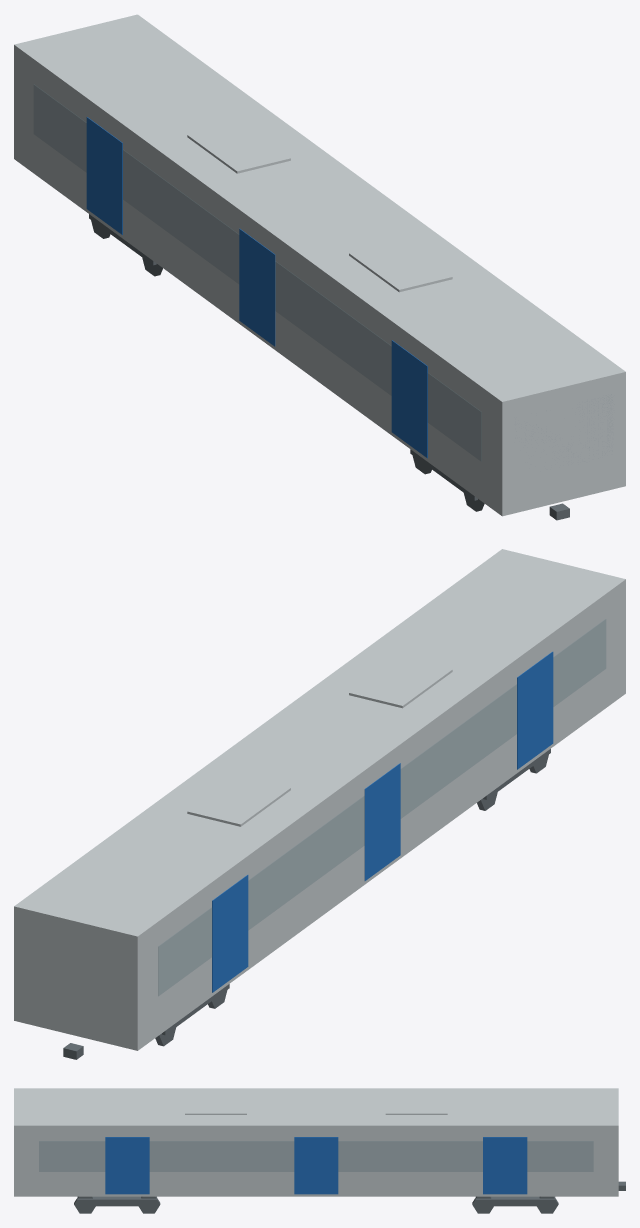
Rendered from canada-line-endcar-exterior.lod2.glb.
The picture shows the model from 3 angles, top to bottom: view 1: azimuth 30°, elevation 25°; view 2: azimuth 150°, elevation 25°; view 3: azimuth 270°, elevation 25°; orthographic projection. The views are drawn at different scales.
Parts seen in each view (by area): view 1: body-shell, glass, blue-fascia; view 2: body-shell, glass, blue-fascia; view 3: body-shell, glass, blue-fascia, bogie-rear-frame, bogie-front-frame, wheel-rear-front-left, wheel-front-front-left, wheel-front-rear-left, wheel-rear-rear-left.
Boxes of the visible parts, x1,y1,x2,y2 form: body-shell: (14, 14, 625, 516); glass: (34, 84, 481, 461); blue-fascia: (86, 117, 427, 458); body-shell: (14, 549, 625, 1050); glass: (158, 619, 605, 995); blue-fascia: (212, 651, 553, 992); body-shell: (14, 1088, 618, 1196); glass: (39, 1141, 593, 1171); blue-fascia: (105, 1137, 527, 1194); bogie-rear-frame: (475, 1196, 555, 1206); bogie-front-frame: (77, 1196, 156, 1206); wheel-rear-front-left: (472, 1196, 493, 1213); wheel-front-front-left: (74, 1196, 95, 1213); wheel-front-rear-left: (138, 1196, 160, 1213); wheel-rear-rear-left: (537, 1196, 558, 1213).
Bounding box in the file's own units: 3.05 × 3.65 × 20.75.
